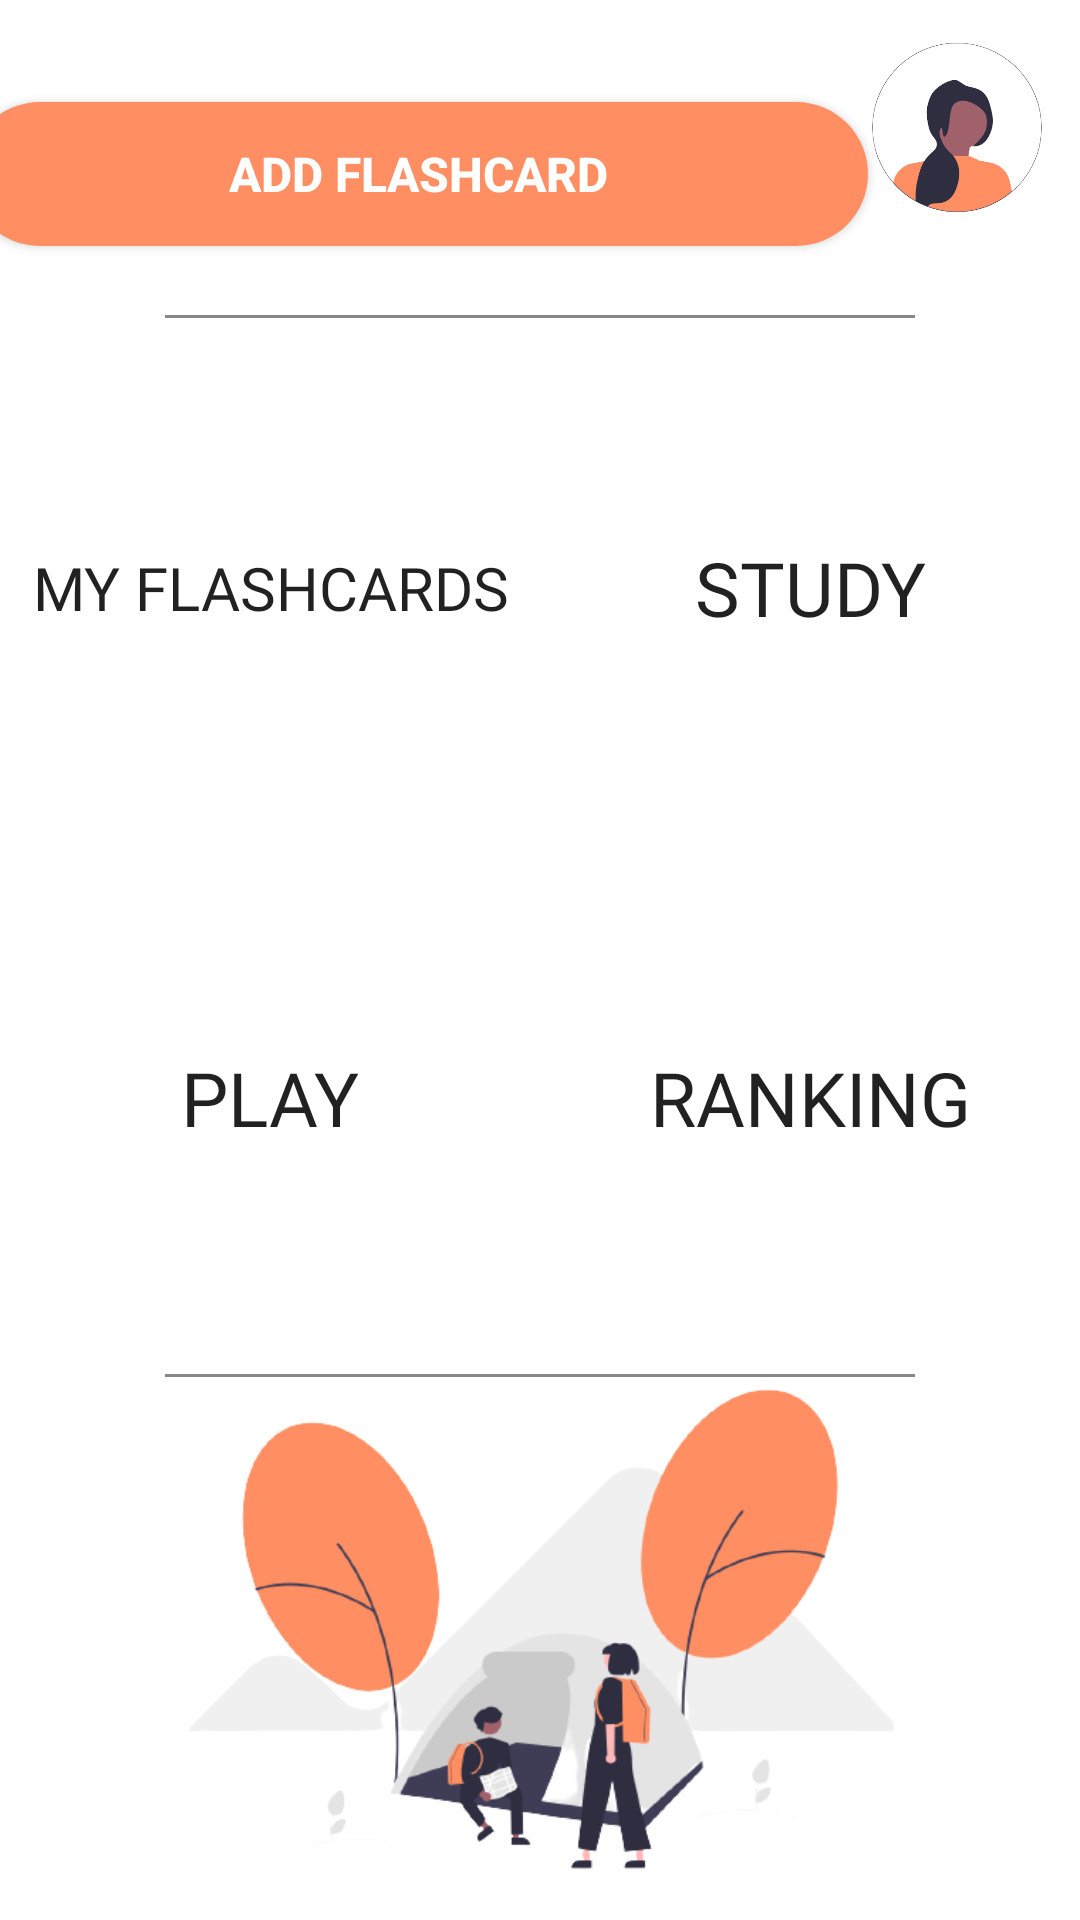

Named icons in this screenshot (1080 × 1920) and their bounding boxes, (x1,y1,x2,y2):
profile: (872,43,1042,212)
